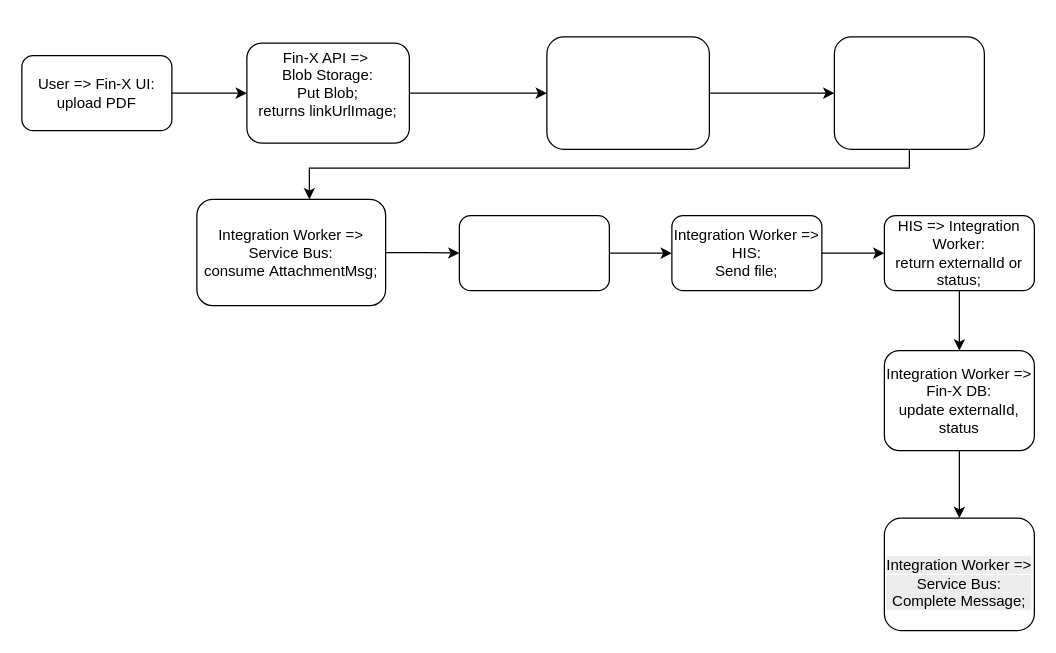
Some shapes in this 1056 by 653 pixel diagram are drawn without their labels. The shapes that lost their labels are listed below. From the top down, each one's box as (x1, y1, x2, y2) in pixels, then its label:
(546, 36, 709, 149): Fin-X API => Fin-X DB: Insert linkUrlImage, IdBlob, IdAgendamento;
(833, 36, 984, 149): Fin-X API => Service Bus Topic: publish AttachmentMsg;
(458, 214, 609, 291): Integration Worker => Blob Storage: Get Blob;
